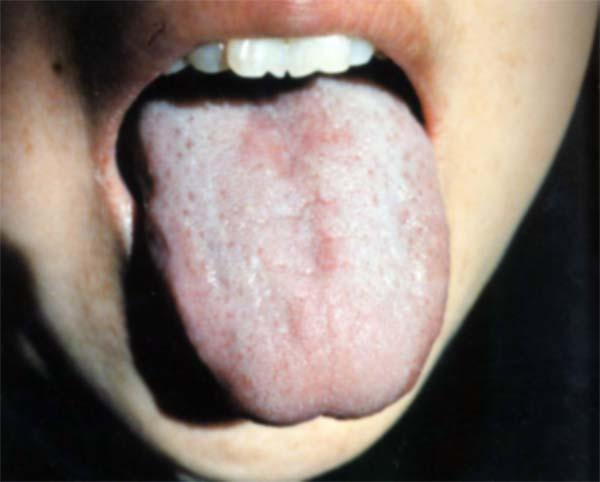baitaishe: (136, 69, 451, 426)
hongdianshe: (181, 135, 196, 151)
xinfeiao: (279, 401, 364, 427)
